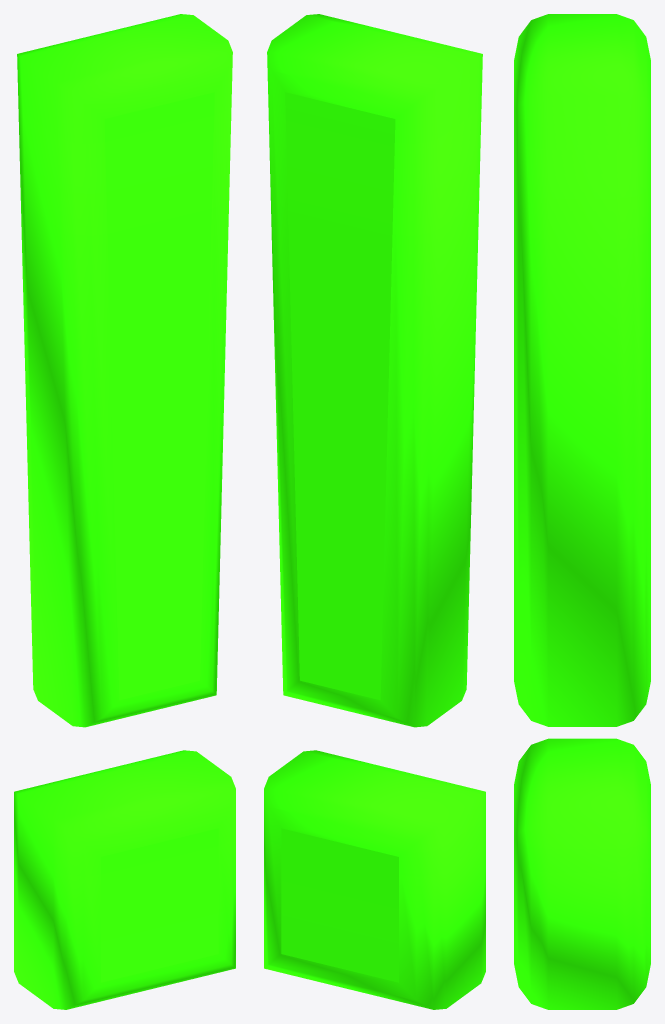
Rendered from 454c533e-cbcf-418f-8e21-bba0b9ed6808.glb.
The picture shows the model from 3 angles, left to right: view 1: azimuth 30°, elevation 25°; view 2: azimuth 150°, elevation 25°; view 3: azimuth 270°, elevation 25°; orthographic projection.
Parts seen in each view (by area): view 1: IndicatorExclamationPointGreen; view 2: IndicatorExclamationPointGreen; view 3: IndicatorExclamationPointGreen.
Boxes of the visible parts, x1,y1,x2,y2 form: IndicatorExclamationPointGreen: (14, 14, 235, 1009); IndicatorExclamationPointGreen: (264, 14, 485, 1009); IndicatorExclamationPointGreen: (514, 14, 650, 1009).
Size of the model in its own units: 0.0953 by 0.4743 by 0.0645.
Materials: 1 (1 with a texture image).
